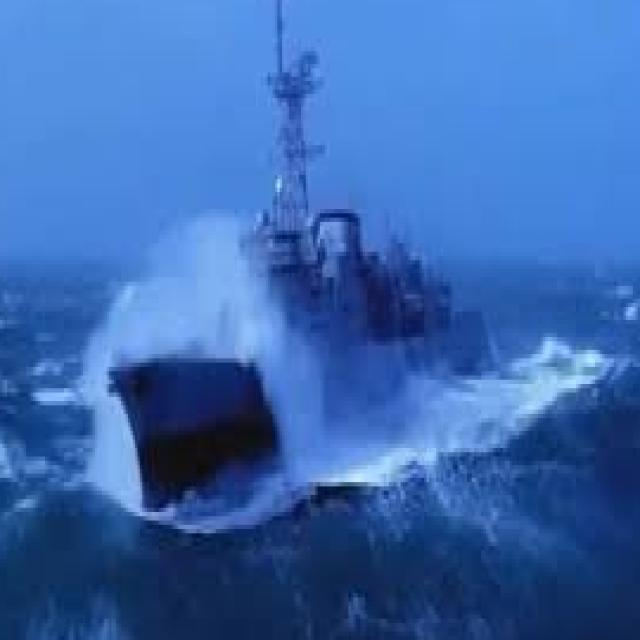navalvessels: (67, 0, 496, 521)
